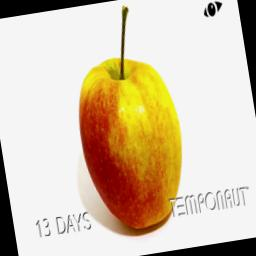Apple Ripe: (61, 0, 196, 237)
